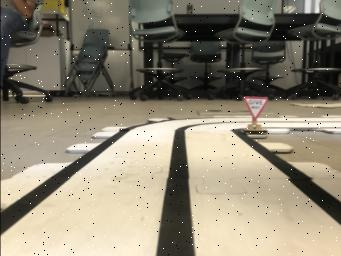give_way: (242, 96, 268, 139), (242, 96, 268, 139), (242, 96, 268, 139)
street: (0, 117, 341, 256), (0, 117, 341, 256), (0, 117, 341, 256)
